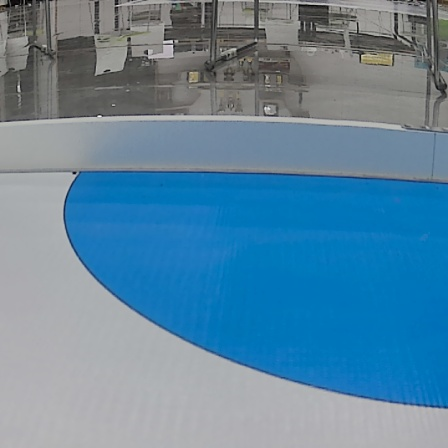blue_base: (62, 168, 448, 410)
